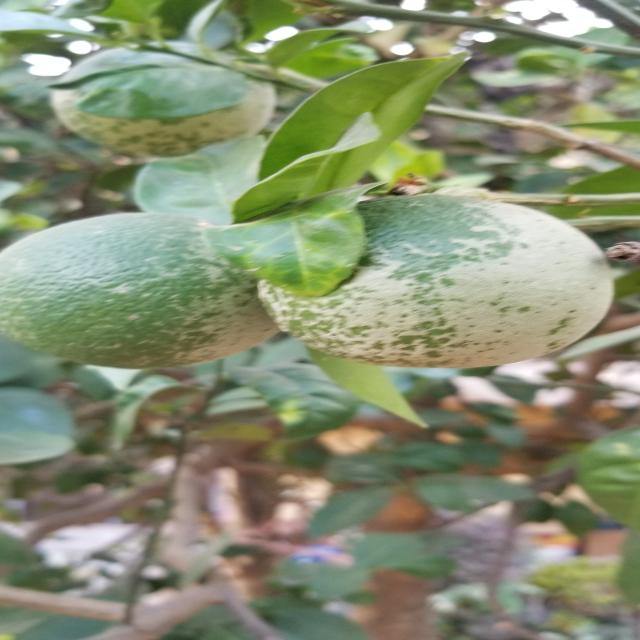Unripe: (242, 184, 620, 373), (3, 206, 291, 381)
